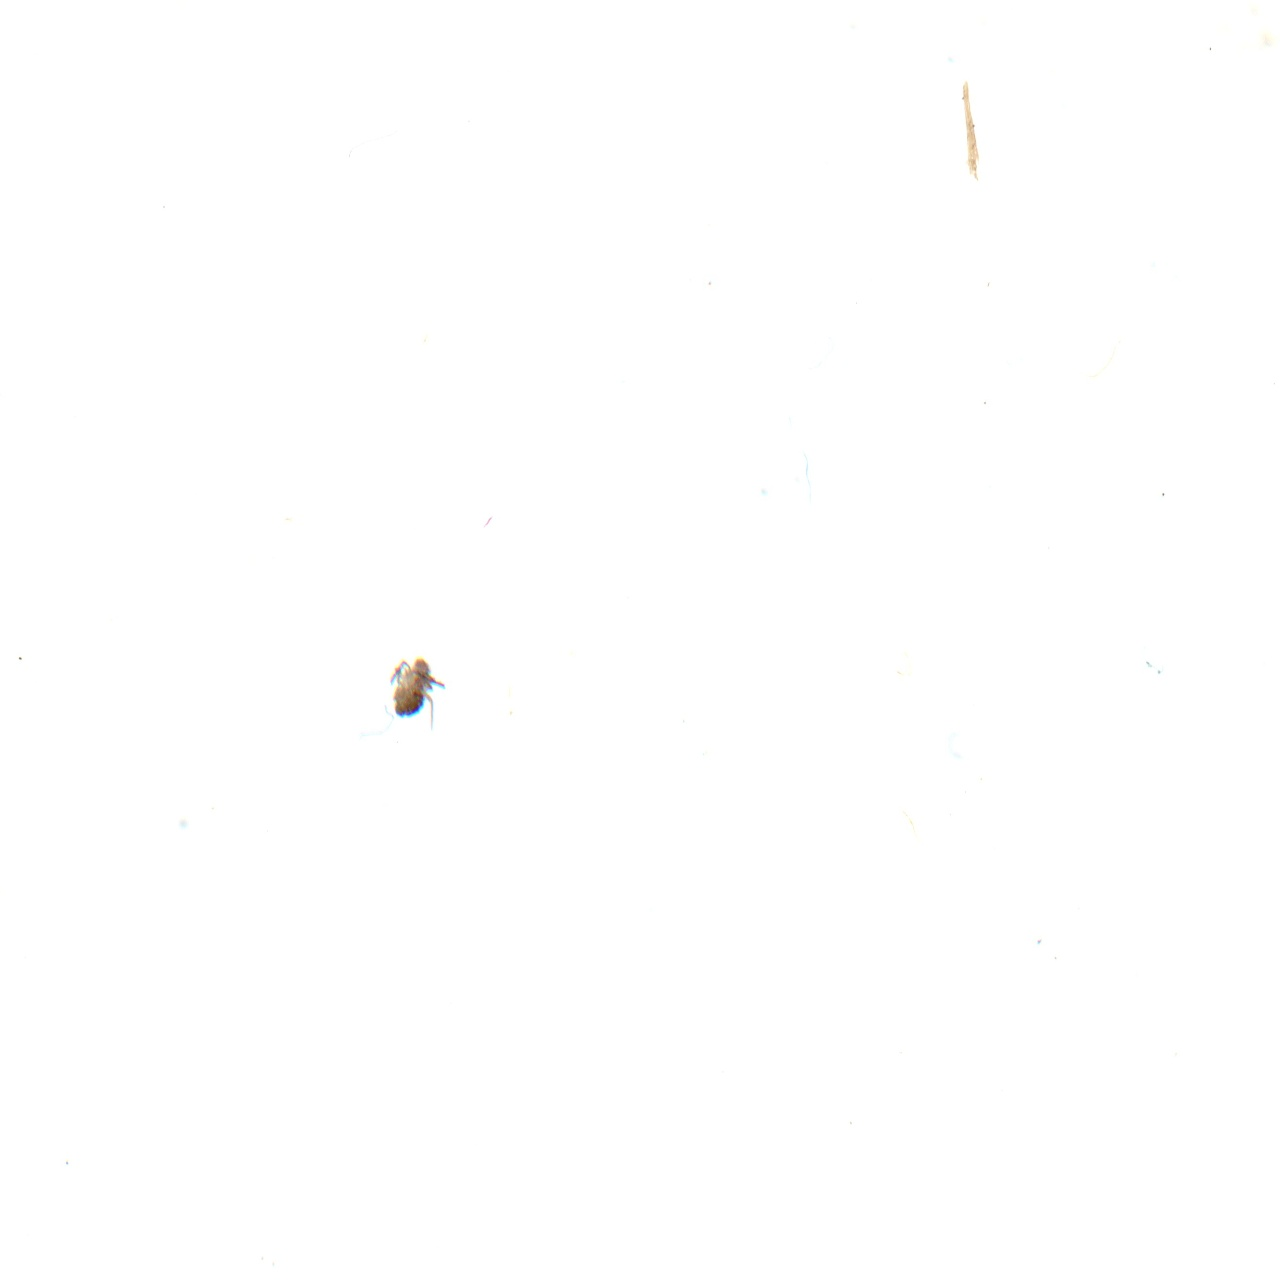arthropod: (386, 654, 450, 733)
